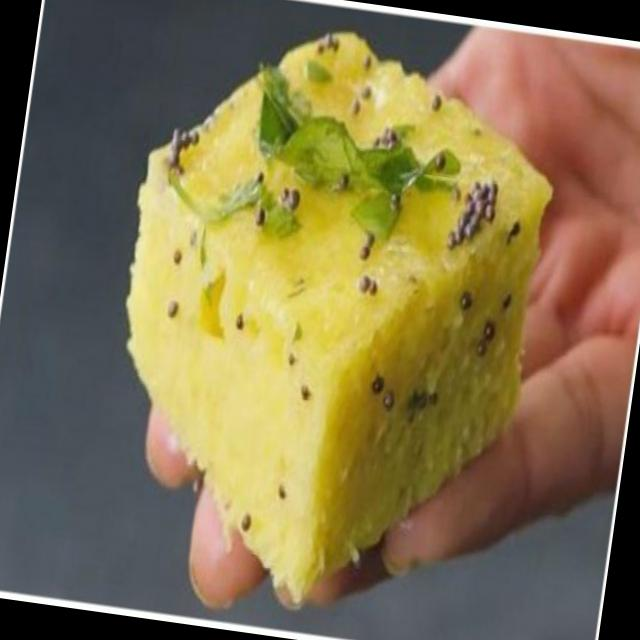dhokla: (90, 13, 570, 629)
